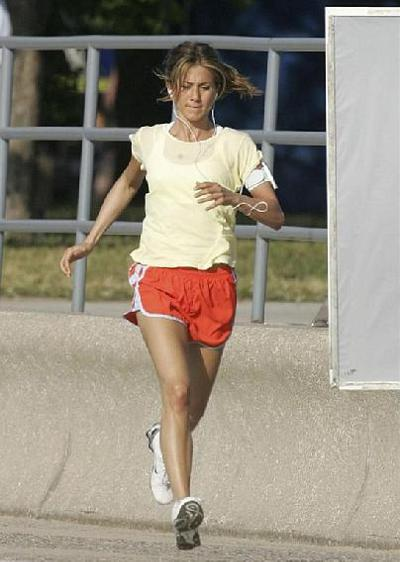person: (58, 39, 287, 554)
